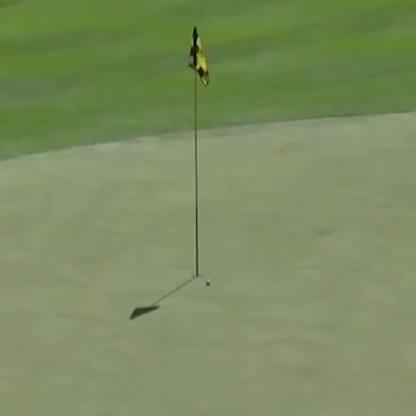golfball: (205, 273, 210, 283)
